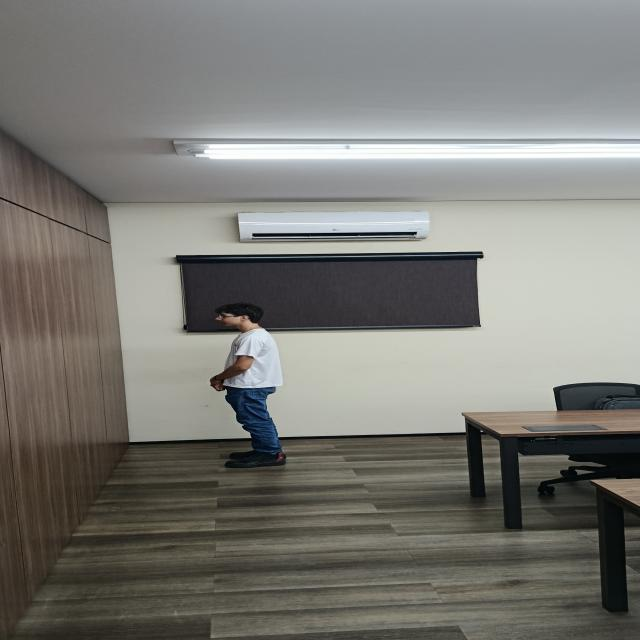sem_oculos: (218, 316, 236, 318)
